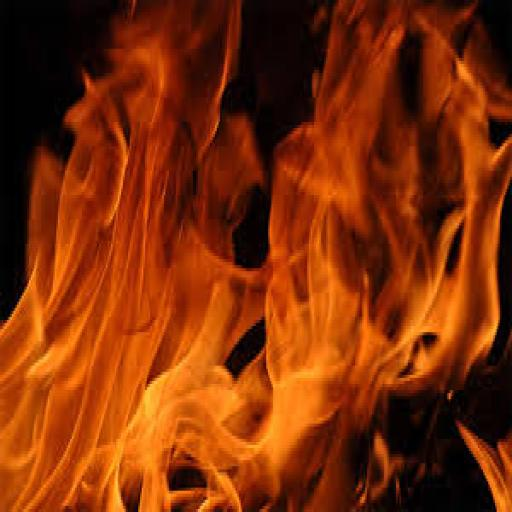fire: (17, 24, 509, 512)
